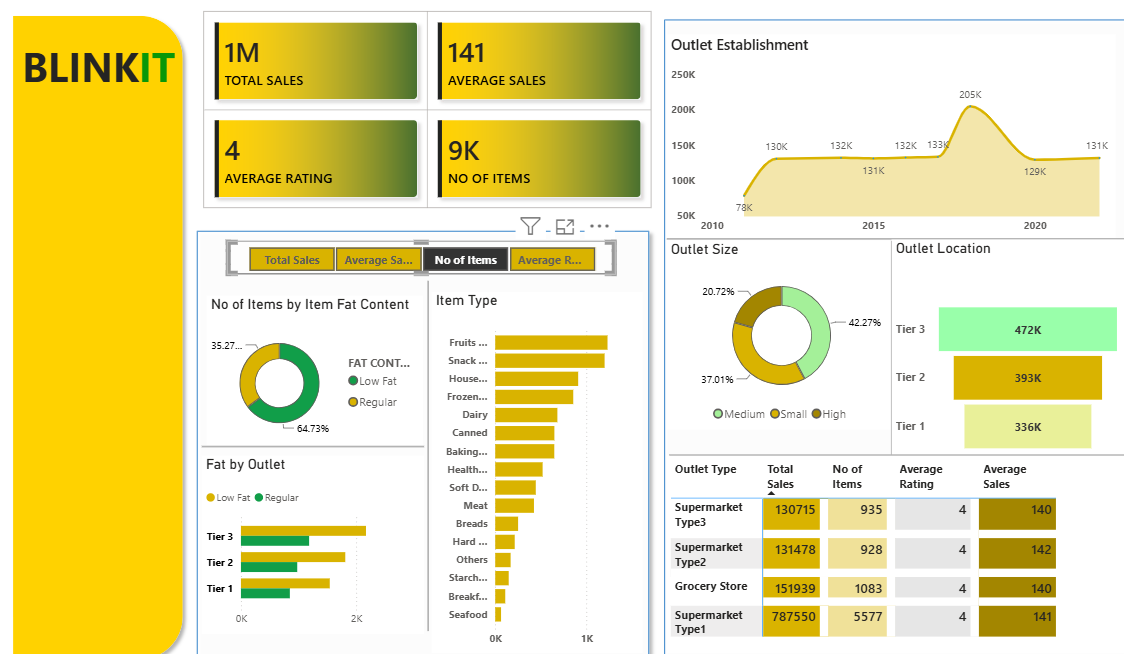

What the dashboard file says about the page in this screenshot:
{"tool":"powerbi","page":{"name":"Page 1","canvas":[1400,800],"ordinal":0},"visuals":[{"type":"shape","box":[27,13.5,220.6,786.5],"z":0},{"type":"textbox","box":[42,45,625.9,87.1],"z":1000},{"type":"cardVisual","fields":{"Data":["BlinkIT Grocery Data.Total Sales","BlinkIT Grocery Data.Average Sales","BlinkIT Grocery Data.Average Rating","BlinkIT Grocery Data.No of Items"]},"box":[246.7,0,570,270],"z":2000},{"type":"shape","box":[246.3,270.2,558.3,530],"z":3000},{"type":"donutChart","fields":{"Y":["BlinkIT Grocery Data.Total Sales"],"Category":["BlinkIT Grocery Data.Item Fat Content"]},"box":[267.2,356.8,258.1,178.6],"z":4000},{"type":"slicer","fields":{"Values":["Metrics.Metrics"]},"box":[291.1,291.1,465,40],"z":5000},{"type":"clusteredBarChart","title":"Fat by Outlet","fields":{"Y":["BlinkIT Grocery Data.Total Sales"],"Series":["BlinkIT Grocery Data.Item Fat Content"],"Category":["BlinkIT Grocery Data.Outlet Location Type"]},"box":[261.3,547.9,265.7,213.1],"z":6000},{"type":"shape","box":[261.3,494.1,265.7,85.5],"z":7000},{"type":"shape","box":[355.7,339.2,352.7,418.7],"z":8000},{"type":"barChart","title":"Item Type","fields":{"Y":["BlinkIT Grocery Data.Total Sales"],"Category":["BlinkIT Grocery Data.Item Type"]},"box":[535.9,352.3,252.3,431.4],"z":9000},{"type":"shape","box":[804.7,17.9,570.3,782.3],"z":10000},{"type":"lineChart","title":"Outlet Establishment","fields":{"Category":["BlinkIT Grocery Data.Outlet Establishment Year"],"Y":["BlinkIT Grocery Data.Total Sales"]},"box":[816.6,44.8,535.9,246.3],"z":11000},{"type":"shape","box":[816.6,246.3,547.9,85.1],"z":12000},{"type":"donutChart","title":"Outlet Size","fields":{"Y":["BlinkIT Grocery Data.Total Sales"],"Category":["BlinkIT Grocery Data.Outlet Size"]},"box":[816.6,291.1,274.7,225.4],"z":13000},{"type":"shape","box":[909.2,291.1,352.3,256.8],"z":14000},{"type":"funnel","title":"Outlet Location","fields":{"Category":["BlinkIT Grocery Data.Outlet Location Type"],"Y":["BlinkIT Grocery Data.Total Sales"]},"box":[1085.3,289.6,279.2,300.1],"z":15000},{"type":"shape","box":[819.6,504.6,544.9,85.1],"z":16000},{"type":"pivotTable","fields":{"Rows":["BlinkIT Grocery Data.Outlet Type"],"Values":["BlinkIT Grocery Data.Total Sales","BlinkIT Grocery Data.No of Items","BlinkIT Grocery Data.Average Rating","BlinkIT Grocery Data.Average Sales","Sum(BlinkIT Grocery Data.Item Visibility)"]},"box":[816.6,547.9,547.9,235.9],"z":17000}]}

Visuals, with their boxes in screenshot pixels (x1, y1, x2, y2), scaled from the page's 1400x800 canvas onto the 1124x654 screenshot:
shape: {"left": 22, "top": 11, "right": 199, "bottom": 653}
textbox: {"left": 34, "top": 37, "right": 536, "bottom": 108}
cardVisual - BlinkIT Grocery Data.Total Sales x BlinkIT Grocery Data.Average Sales: {"left": 198, "top": 0, "right": 656, "bottom": 221}
shape: {"left": 198, "top": 221, "right": 646, "bottom": 653}
donutChart - BlinkIT Grocery Data.Total Sales x BlinkIT Grocery Data.Item Fat Content: {"left": 215, "top": 292, "right": 422, "bottom": 438}
slicer - Metrics.Metrics: {"left": 234, "top": 238, "right": 607, "bottom": 271}
"Fat by Outlet" clusteredBarChart: {"left": 210, "top": 448, "right": 423, "bottom": 622}
shape: {"left": 210, "top": 404, "right": 423, "bottom": 474}
shape: {"left": 286, "top": 277, "right": 569, "bottom": 620}
"Item Type" barChart: {"left": 430, "top": 288, "right": 633, "bottom": 641}
shape: {"left": 646, "top": 15, "right": 1104, "bottom": 653}
"Outlet Establishment" lineChart: {"left": 656, "top": 37, "right": 1086, "bottom": 238}
shape: {"left": 656, "top": 201, "right": 1095, "bottom": 271}
"Outlet Size" donutChart: {"left": 656, "top": 238, "right": 876, "bottom": 422}
shape: {"left": 730, "top": 238, "right": 1013, "bottom": 448}
"Outlet Location" funnel: {"left": 871, "top": 237, "right": 1095, "bottom": 482}
shape: {"left": 658, "top": 413, "right": 1095, "bottom": 482}
pivotTable - BlinkIT Grocery Data.Outlet Type x BlinkIT Grocery Data.Total Sales: {"left": 656, "top": 448, "right": 1095, "bottom": 641}
